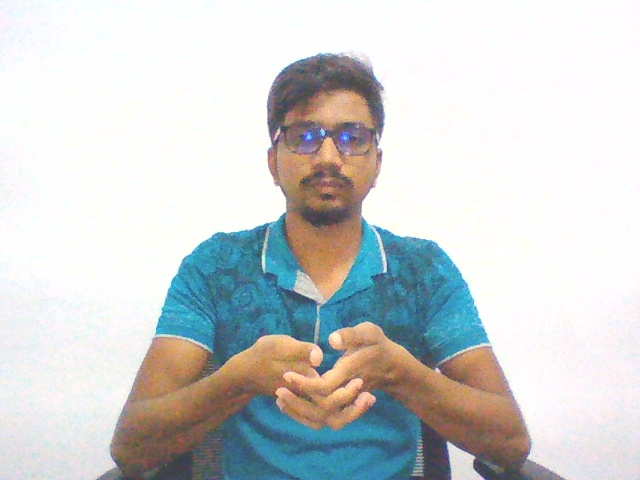mangosteen: (227, 313, 402, 435)
